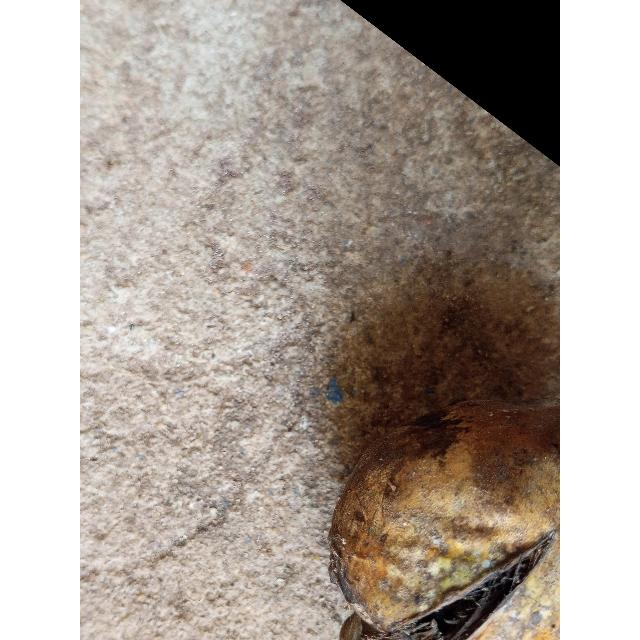damaged: (328, 402, 560, 640)
